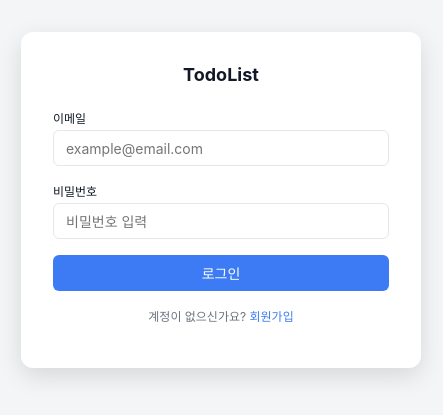
Test: 이메일 빈 값 제출 시 유효성 오류
Click the button "로그인": (221, 273) [53, 255, 389, 291]
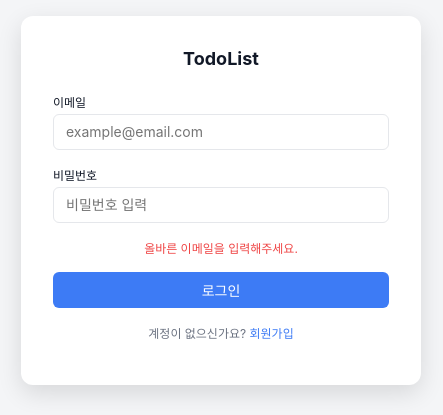
Check: the text "올바른 이메일을 입력해주세요." is shown, box [144, 240, 298, 256]
